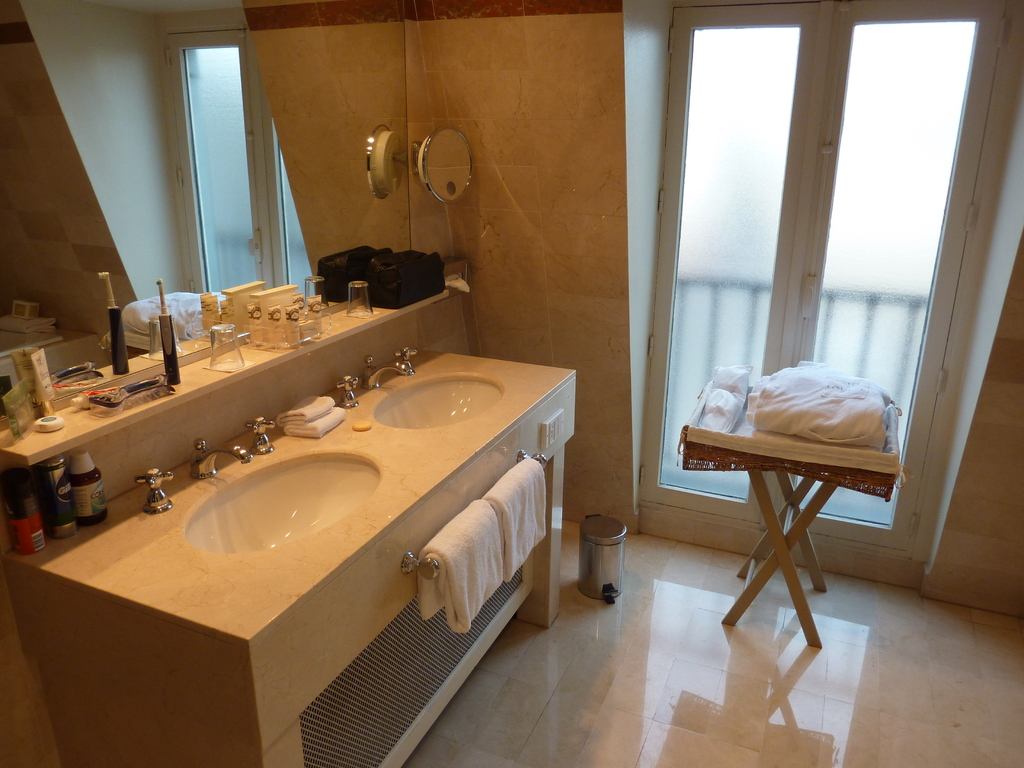tap: (181, 406, 282, 501), (360, 346, 419, 399)
